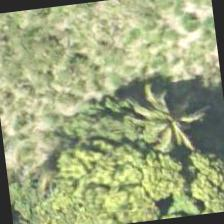Kelapa_Sawit: (120, 78, 220, 178)
